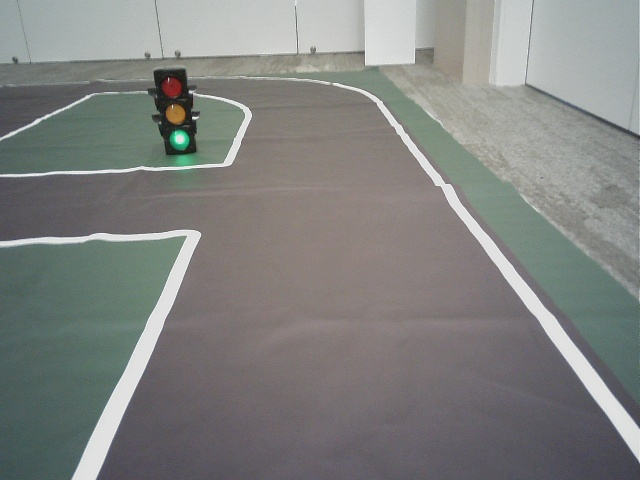green: (157, 72, 196, 152)
